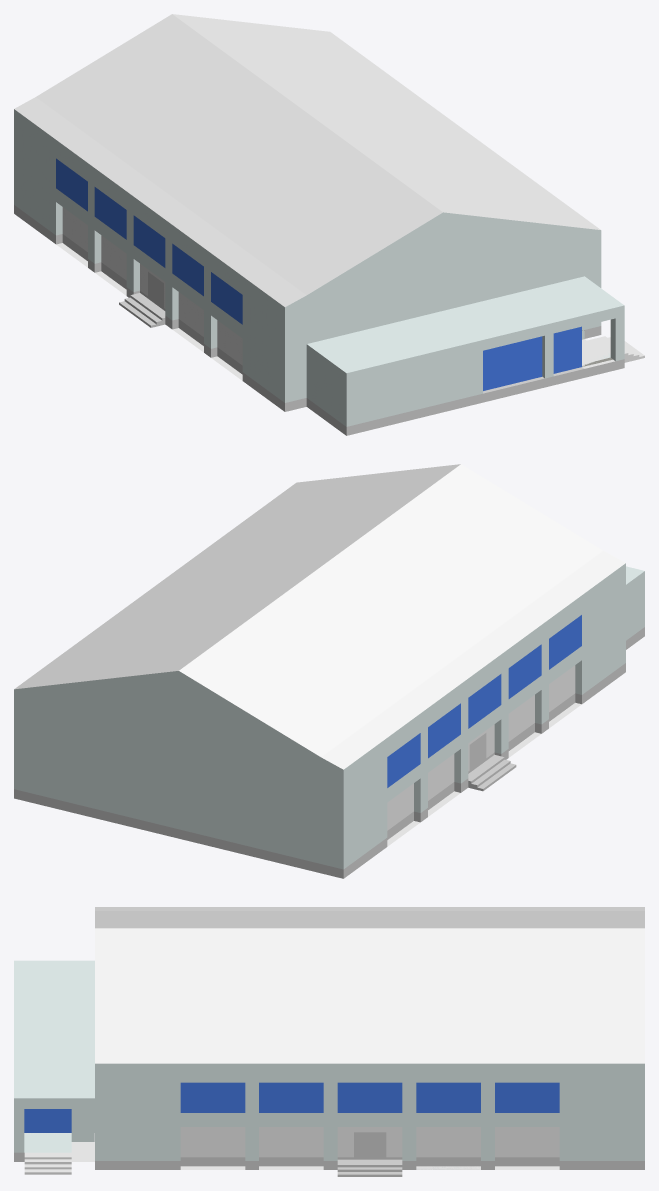
Rendered from taikukan_m.glb.
3 renders of one model, top to bottom at view 1: azimuth 30°, elevation 25°; view 2: azimuth 150°, elevation 25°; view 3: azimuth 270°, elevation 25°, orthographic. The views are drawn at different scales.
Visible parts, largest first — view 1: 体育館; view 2: 体育館; view 3: 体育館.
Boxes of the visible parts, x1,y1,x2,y2 form: 体育館: (14, 14, 644, 435); 体育館: (14, 464, 644, 878); 体育館: (14, 907, 644, 1176).
Size of the model in its own units: 6.88 by 3.08 by 10.76.
Materials: 1 (1 with a texture image).
